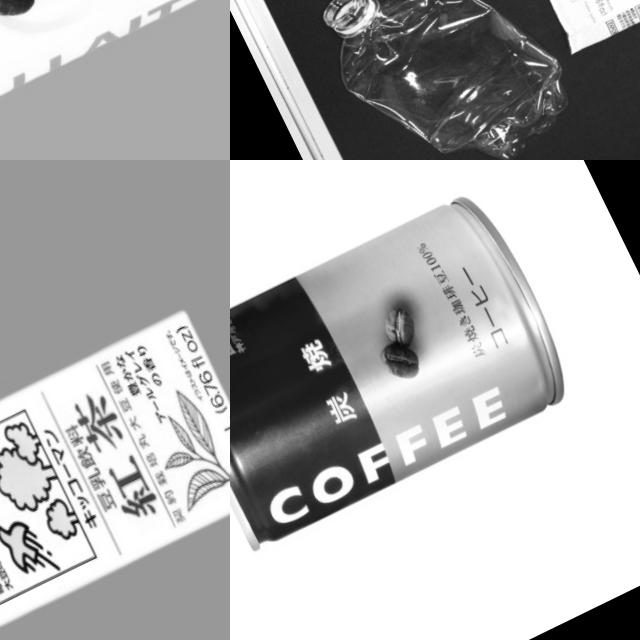Aluminium Foil: (0, 301, 230, 640)
Can: (230, 180, 587, 568), (0, 0, 230, 160)
Transparent Plastic Bottle: (300, 0, 583, 160)
